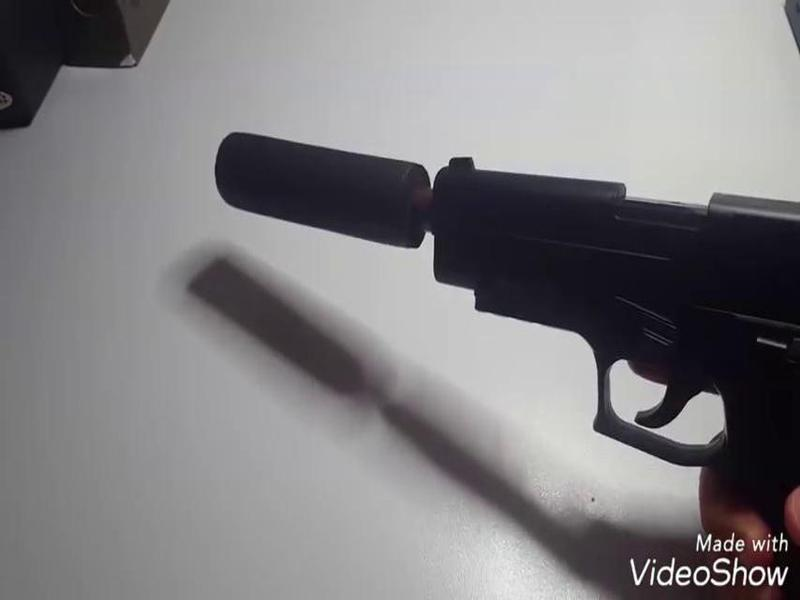Pistola: (433, 150, 800, 520)
